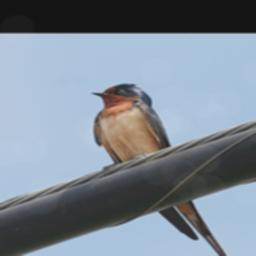Swallow: (91, 82, 238, 256)
